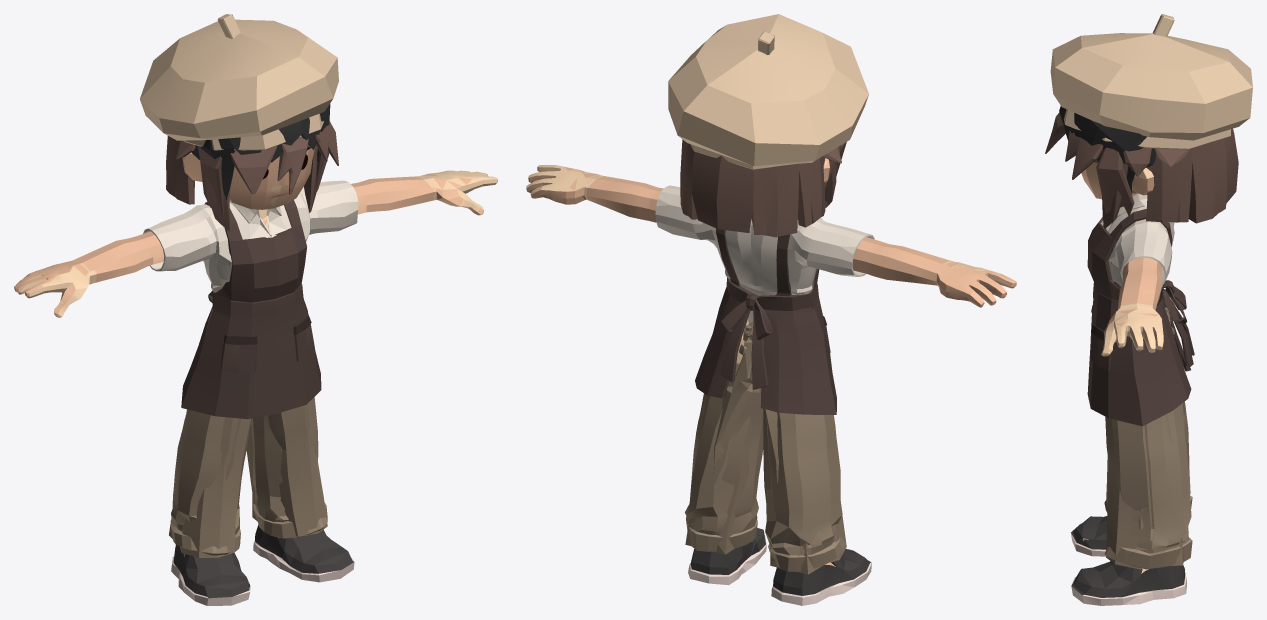
Rendered from coffee_actors.fbx.
3 views of the same model, side by side, from view 1: azimuth 30°, elevation 25°; view 2: azimuth 150°, elevation 25°; view 3: azimuth 270°, elevation 25° (orthographic).
Parts seen in each view (by area): view 1: male hair 1.001, apron, female pants, pants1.002, female apron, male actor body.001, basic shoes, female actor body, male actor body, female hair, male hair 2; view 2: male hair 1.001, pants1.002, apron, female hair, female apron, male actor body.001, basic shoes, female pants, male actor body, female actor body; view 3: male hair 1.001, pants1.002, female apron, apron, female hair, basic shoes, female pants, female actor body, male actor body.001, male hair 2, male actor body.
Part boxes in pixels (bbox=[...]): male hair 1.001: bbox=[140, 14, 338, 214]; apron: bbox=[143, 180, 358, 419]; female pants: bbox=[169, 404, 327, 557]; pants1.002: bbox=[170, 397, 327, 555]; female apron: bbox=[181, 215, 321, 415]; male actor body.001: bbox=[14, 152, 471, 317]; basic shoes: bbox=[171, 524, 354, 605]; female actor body: bbox=[20, 148, 497, 583]; male actor body: bbox=[14, 148, 490, 316]; female hair: bbox=[166, 136, 317, 231]; male hair 2: bbox=[191, 103, 330, 199]; male hair 1.001: bbox=[668, 14, 868, 190]; pants1.002: bbox=[685, 322, 845, 571]; apron: bbox=[655, 185, 874, 398]; female hair: bbox=[680, 139, 836, 237]; female apron: bbox=[695, 269, 836, 414]; male actor body.001: bbox=[527, 159, 1016, 566]; basic shoes: bbox=[688, 528, 871, 605]; female pants: bbox=[685, 325, 846, 574]; male actor body: bbox=[530, 158, 1015, 565]; female actor body: bbox=[526, 161, 1004, 365]; male hair 1.001: bbox=[1045, 14, 1252, 215]; pants1.002: bbox=[1104, 307, 1192, 569]; female apron: bbox=[1087, 217, 1191, 426]; apron: bbox=[1087, 193, 1194, 417]; female hair: bbox=[1094, 128, 1238, 228]; basic shoes: bbox=[1071, 516, 1186, 605]; female pants: bbox=[1105, 312, 1185, 569]; female actor body: bbox=[1082, 168, 1170, 573]; male actor body.001: bbox=[1081, 166, 1162, 331]; male hair 2: bbox=[1059, 106, 1156, 194]; male actor body: bbox=[1082, 162, 1154, 353].
Size of the model in its own units: 464 by 516 by 177.
